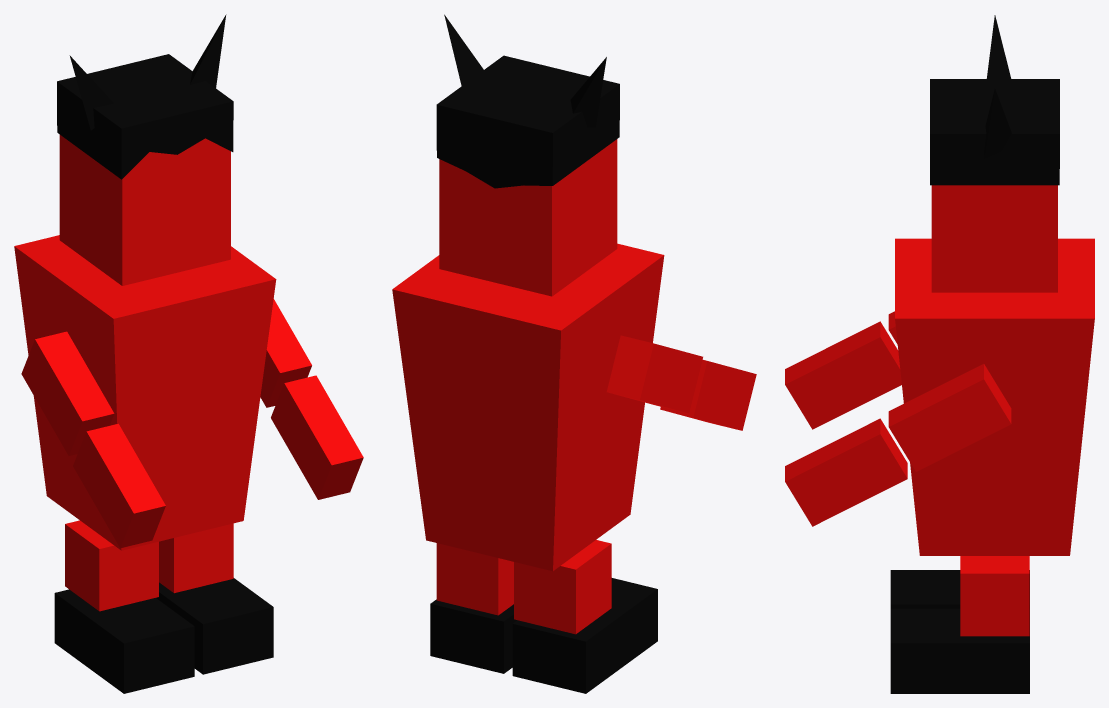
Rendered from Red.fbx.
The picture shows the model from 3 angles, left to right: view 1: azimuth 30°, elevation 25°; view 2: azimuth 150°, elevation 25°; view 3: azimuth 270°, elevation 25°; orthographic projection. The views are drawn at different scales.
Parts seen in each view (by area): view 1: Cube, Cube.001, Cube.010, Cube.004, Cube.005, Cube.007, Cube.008, Cube.009, Cube.002, Cube.003, Cube.006, Cone.001 (+1 smaller); view 2: Cube, Cube.001, Cube.010, Cube.004, Cube.002, Cube.009, Cube.005, Cube.003, Cube.008, Cone, Cone.001; view 3: Cube, Cube.001, Cube.010, Cube.005, Cube.006, Cube.007, Cube.008, Cube.003, Cube.004, Cone.001, Cone.
Boxes of the visible parts, box(x1,y1,x2,y2) form: Cube: box(14, 235, 276, 550); Cube.001: box(59, 135, 230, 285); Cube.010: box(57, 54, 233, 179); Cube.004: box(54, 589, 194, 693); Cube.005: box(156, 578, 273, 674); Cube.007: box(271, 375, 363, 499); Cube.008: box(73, 423, 165, 548); Cube.009: box(21, 331, 114, 455); Cube.002: box(65, 520, 158, 611); Cube.003: box(159, 523, 233, 593); Cube.006: box(260, 299, 311, 407); Cone.001: box(190, 14, 226, 87); Cube: box(392, 243, 664, 571); Cube.001: box(439, 139, 617, 296); Cube.010: box(436, 55, 619, 188); Cube.004: box(512, 578, 657, 693); Cube.002: box(514, 540, 611, 634); Cube.009: box(606, 335, 702, 413); Cube.005: box(430, 599, 516, 673); Cube.003: box(436, 543, 513, 615); Cube.008: box(660, 360, 756, 430); Cone: box(570, 57, 606, 127); Cone.001: box(444, 14, 491, 86); Cube: box(895, 238, 1094, 555); Cube.001: box(931, 185, 1057, 292); Cube.010: box(930, 79, 1059, 185); Cube.005: box(890, 608, 1029, 693); Cube.006: box(888, 364, 1011, 471); Cube.007: box(785, 418, 907, 526); Cube.008: box(785, 321, 901, 429); Cube.003: box(960, 556, 1029, 636); Cube.004: box(890, 570, 1029, 608); Cone.001: box(984, 89, 1011, 158); Cone: box(985, 15, 1011, 88).
Size of the model in its own units: 48.92 by 123 by 56.8.
